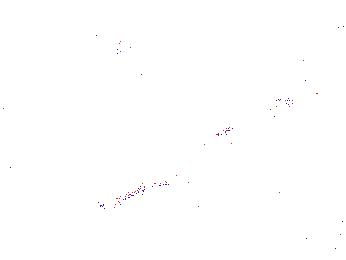glassfish: (181, 95, 294, 169), (103, 173, 207, 215)
red belly glassfish: (312, 70, 325, 98)
redtail glassfish: (101, 55, 151, 86), (117, 19, 154, 53)
